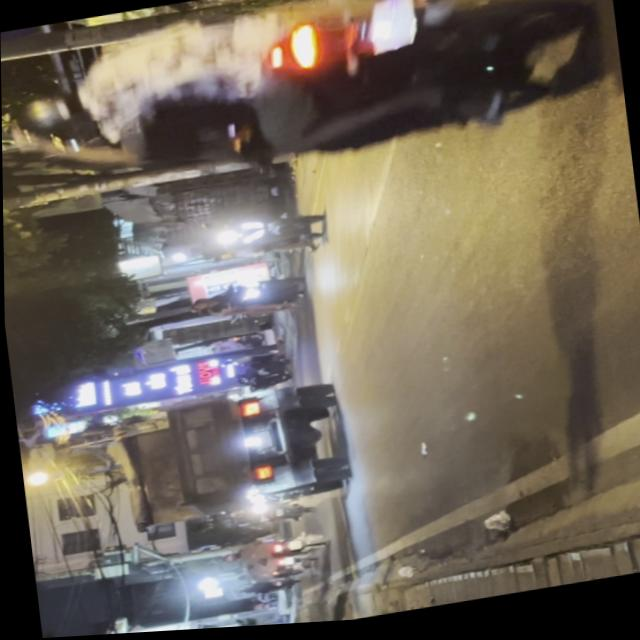helmet: (6, 85, 91, 139)
licenseplate: (0, 0, 614, 215)
nohelmet: (363, 0, 414, 58)
